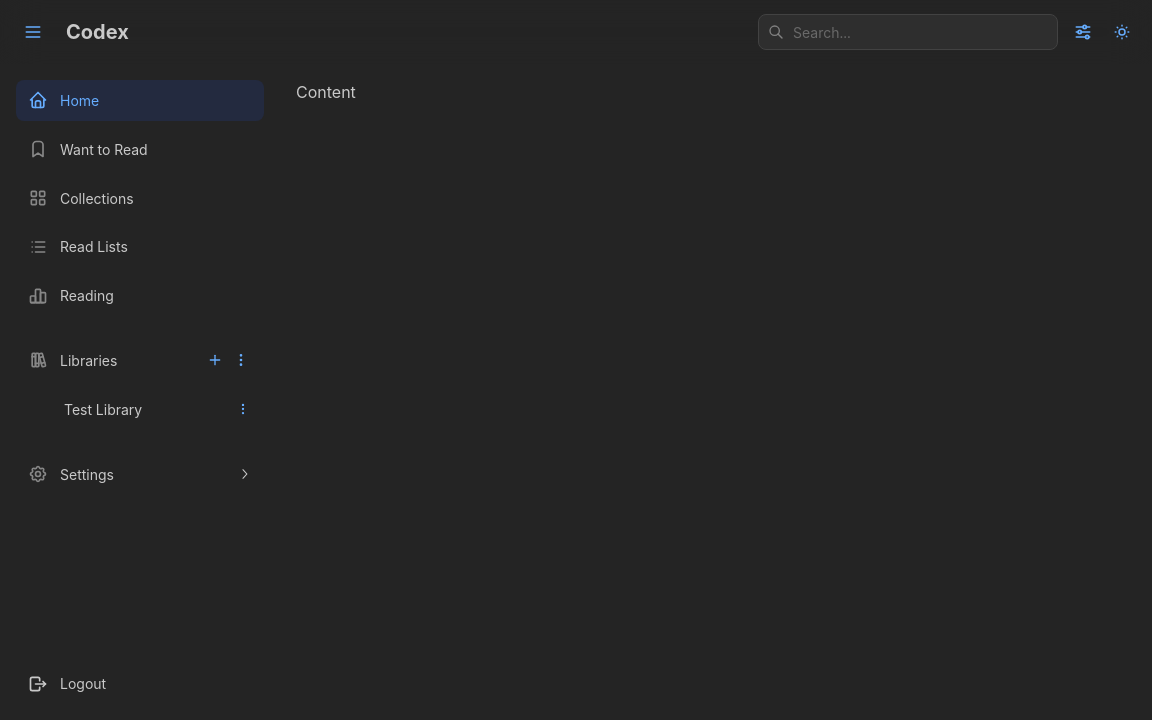
Test: Sidebar Component (via AppLayout) › Library dropdown menu › should show thumbnail options for users with tasks:write permission
The image size is (1152, 720).
Expected: the text "Test Library" is shown, left=64, top=401, right=142, bottom=418
Click the button titled "Library options". click: (243, 409)
box: left=234, top=400, right=252, bottom=418
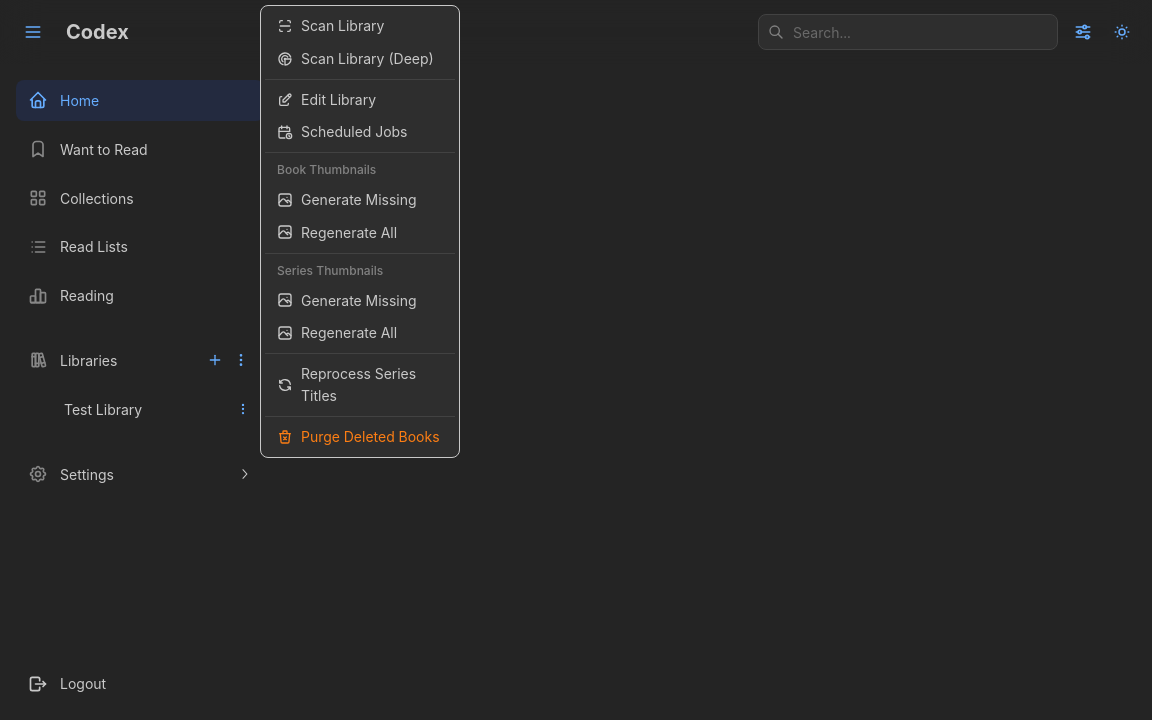
Result: the text "Book Thumbnails" is shown at left=277, top=162, right=376, bottom=177
Result: the text "Series Thumbnails" is shown at left=277, top=263, right=383, bottom=278
Result: the text "Generate Missing" is shown 2 times at left=301, top=191, right=417, bottom=208; left=301, top=292, right=417, bottom=309
